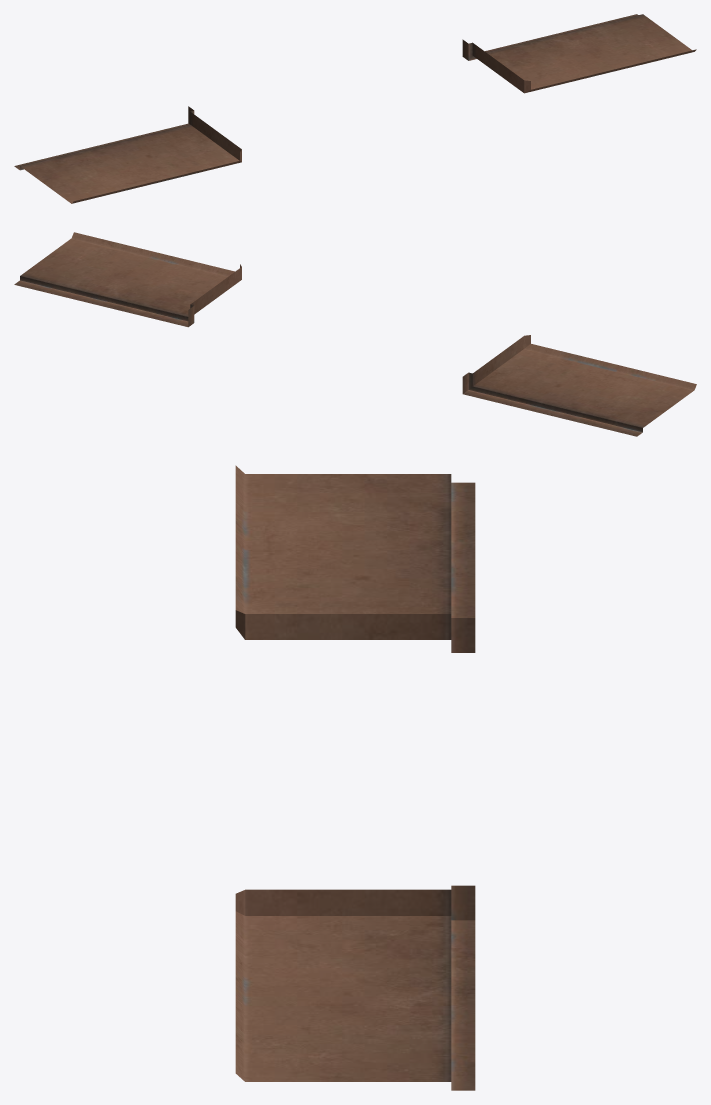
The model's file is dado_door_centered_small_01.gltf.
The picture shows the model from 3 angles, top to bottom: view 1: azimuth 30°, elevation 25°; view 2: azimuth 150°, elevation 25°; view 3: azimuth 270°, elevation 25°; orthographic projection. The views are drawn at different scales.
Visible parts, largest first — view 1: dado_door_centered_small_01; view 2: dado_door_centered_small_01; view 3: dado_door_centered_small_01.
Boxes of the visible parts, box(x1,y1,x2,y2) form: dado_door_centered_small_01: box(14, 14, 696, 203); dado_door_centered_small_01: box(14, 232, 696, 436); dado_door_centered_small_01: box(235, 465, 475, 1090).
Size of the model in its own units: 3 by 0.08 by 0.5.
1 material, 1 textured.
